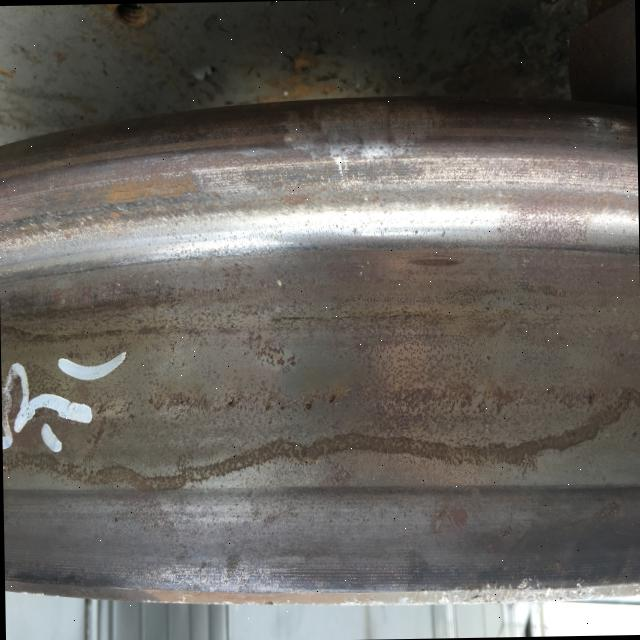Peeling: (304, 399, 313, 412), (586, 392, 595, 404), (329, 395, 338, 405), (228, 397, 236, 408)
